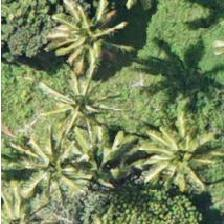coconut_tree: (125, 119, 215, 209), (9, 113, 99, 203), (52, 120, 142, 210), (31, 64, 121, 154), (36, 0, 126, 82), (0, 176, 62, 223)
